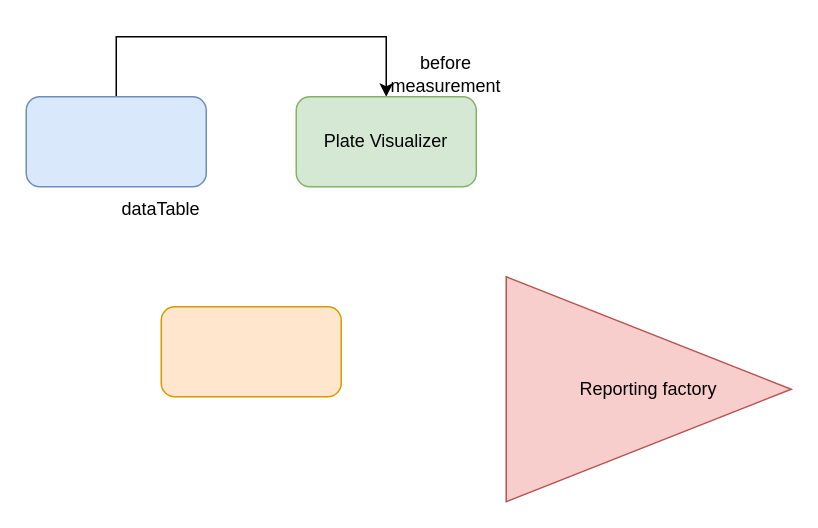
This 818x528 diagram has some shape labels left out. The shapes that lost their labels are listed below. From the top down, each one's box as (x1, y1, x2, y2) in pixels, then its label:
(25, 95, 206, 187): Barcode input field
(160, 305, 341, 397): Sample list checking
